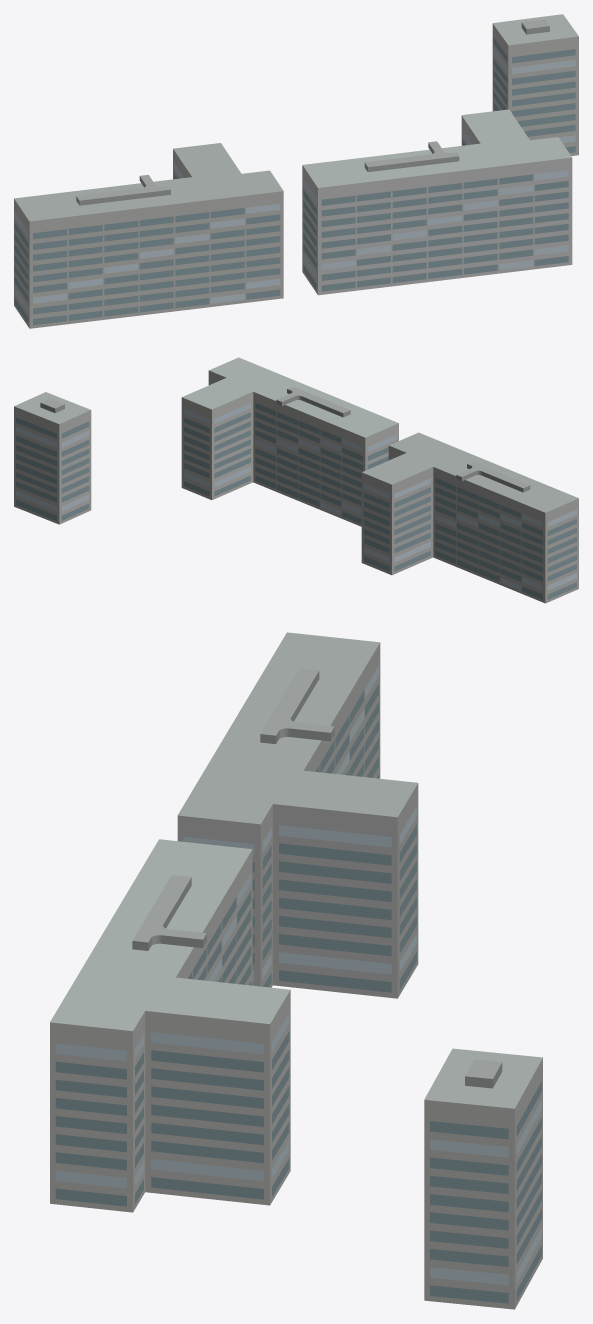
The model's file is apt-a15784402.glb.
The picture shows the model from 3 angles, top to bottom: view 1: azimuth 30°, elevation 25°; view 2: azimuth 150°, elevation 25°; view 3: azimuth 270°, elevation 25°; orthographic projection. The views are drawn at different scales.
Visible parts, largest first — view 1: apt-a15784402; view 2: apt-a15784402; view 3: apt-a15784402.
Part boxes in pixels (left/top/right/bottom): apt-a15784402: left=14, top=14, right=578, bottom=328; apt-a15784402: left=14, top=357, right=578, bottom=603; apt-a15784402: left=50, top=632, right=542, bottom=1309.
Bounding box in the file's own units: 157 × 31 × 65.91.
